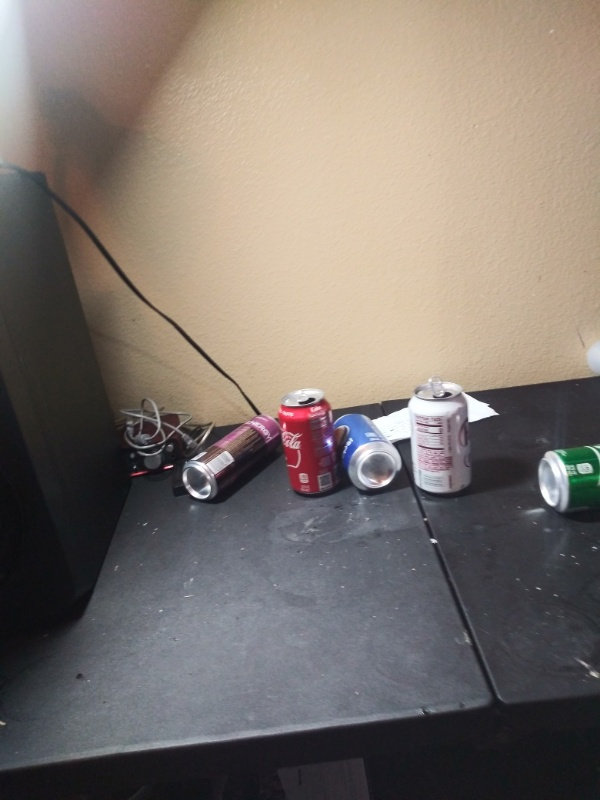can: (180, 408, 284, 503), (409, 375, 477, 495), (278, 388, 341, 500), (333, 408, 404, 495), (535, 442, 600, 515)
